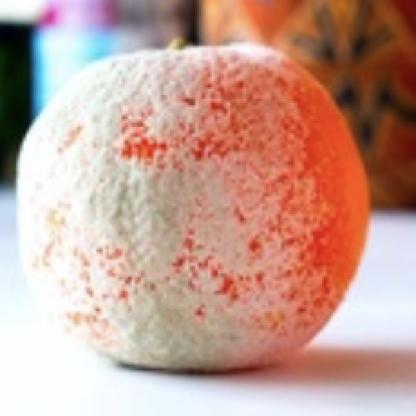rotten: (19, 48, 371, 375)
